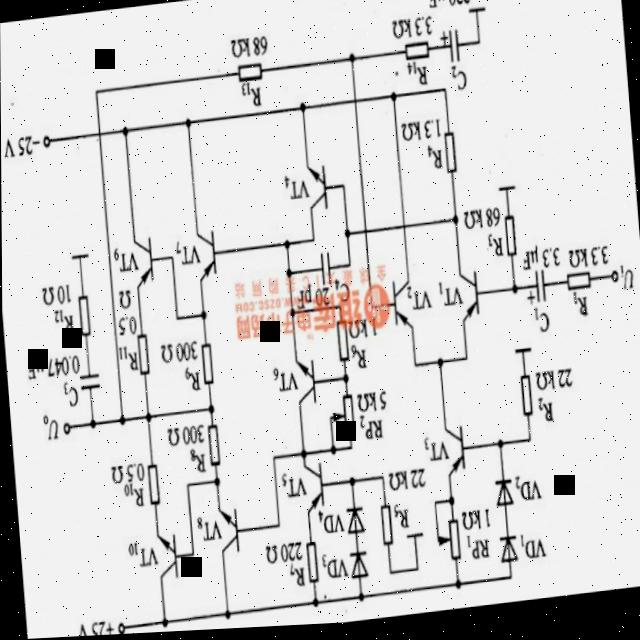capacitor: (518, 270, 555, 320), (434, 24, 469, 76), (310, 244, 337, 298), (71, 365, 107, 397)
diode: (490, 529, 525, 575), (339, 545, 373, 590), (337, 497, 367, 546), (487, 473, 516, 520)
ground: (62, 241, 94, 278), (460, 0, 491, 33), (398, 523, 427, 552), (491, 178, 519, 208), (510, 341, 535, 370)
node: (219, 599, 232, 631), (506, 278, 520, 307), (294, 97, 309, 123), (343, 52, 359, 75), (305, 597, 323, 617), (85, 412, 100, 435), (203, 396, 215, 424), (352, 586, 366, 610), (195, 303, 207, 331), (119, 119, 133, 143), (491, 435, 505, 458), (450, 579, 464, 602), (431, 353, 445, 376), (386, 89, 400, 112), (141, 407, 154, 430), (115, 410, 128, 433), (444, 494, 456, 518), (446, 214, 461, 233), (156, 612, 170, 632), (338, 368, 350, 390), (279, 239, 293, 257), (209, 478, 222, 497), (339, 225, 352, 244), (286, 307, 297, 329), (283, 266, 294, 286), (182, 113, 192, 135), (297, 448, 307, 467), (345, 476, 354, 494), (327, 445, 335, 460)
resistor: (430, 514, 466, 572), (325, 391, 362, 446), (191, 332, 222, 396), (325, 314, 356, 371), (139, 451, 166, 514), (560, 264, 597, 307), (230, 53, 272, 90), (509, 370, 535, 428), (397, 36, 435, 75), (129, 327, 154, 385), (200, 416, 224, 476), (71, 290, 96, 346), (438, 127, 461, 187), (298, 536, 323, 590), (500, 208, 520, 272), (374, 501, 393, 558)
transistor: (440, 259, 488, 335), (289, 444, 332, 527), (432, 415, 476, 490), (382, 265, 422, 347), (202, 492, 246, 566), (143, 522, 186, 597), (187, 214, 225, 296), (295, 157, 333, 236), (284, 347, 323, 422), (124, 223, 160, 302)
